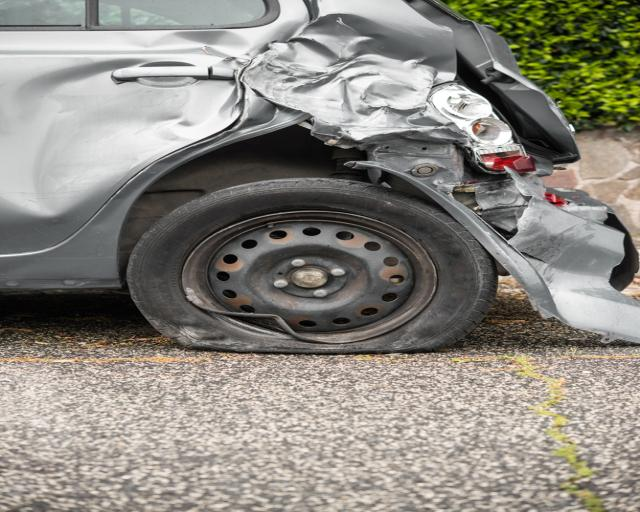dent: (2, 32, 257, 216), (245, 13, 459, 137)
lamp broken: (422, 82, 534, 171)
tire flat: (128, 179, 496, 352)
